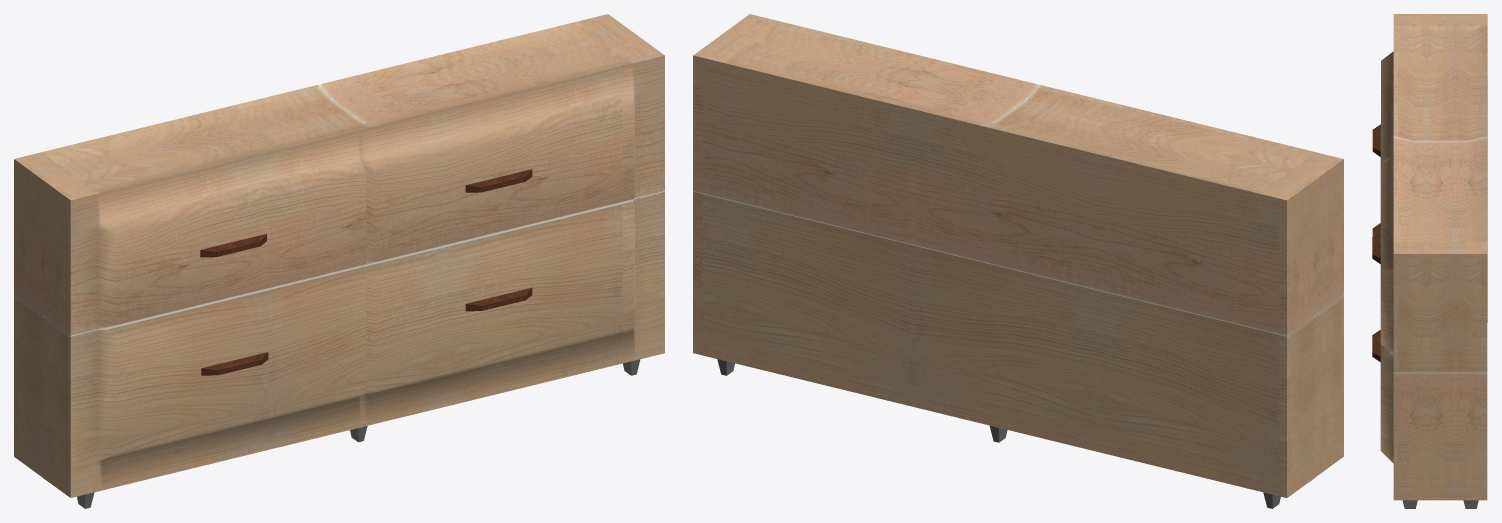
File: armariopequen╠âo.fbx
3 renders of one model, left to right at view 1: azimuth 30°, elevation 25°; view 2: azimuth 150°, elevation 25°; view 3: azimuth 270°, elevation 25°, orthographic. The views are drawn at different scales.
Parts seen in each view (by area): view 1: Armario_texturizado:pCube12; view 2: Armario_texturizado:pCube12; view 3: Armario_texturizado:pCube12.
Part boxes in pixels (box(x1,y1,x2,y2)): Armario_texturizado:pCube12: box(14, 14, 664, 508); Armario_texturizado:pCube12: box(693, 14, 1343, 508); Armario_texturizado:pCube12: box(1372, 14, 1487, 508).
Size of the model in its own units: 6.05 by 3.1 by 1.23.
Materials: 5 (3 with a texture image).
